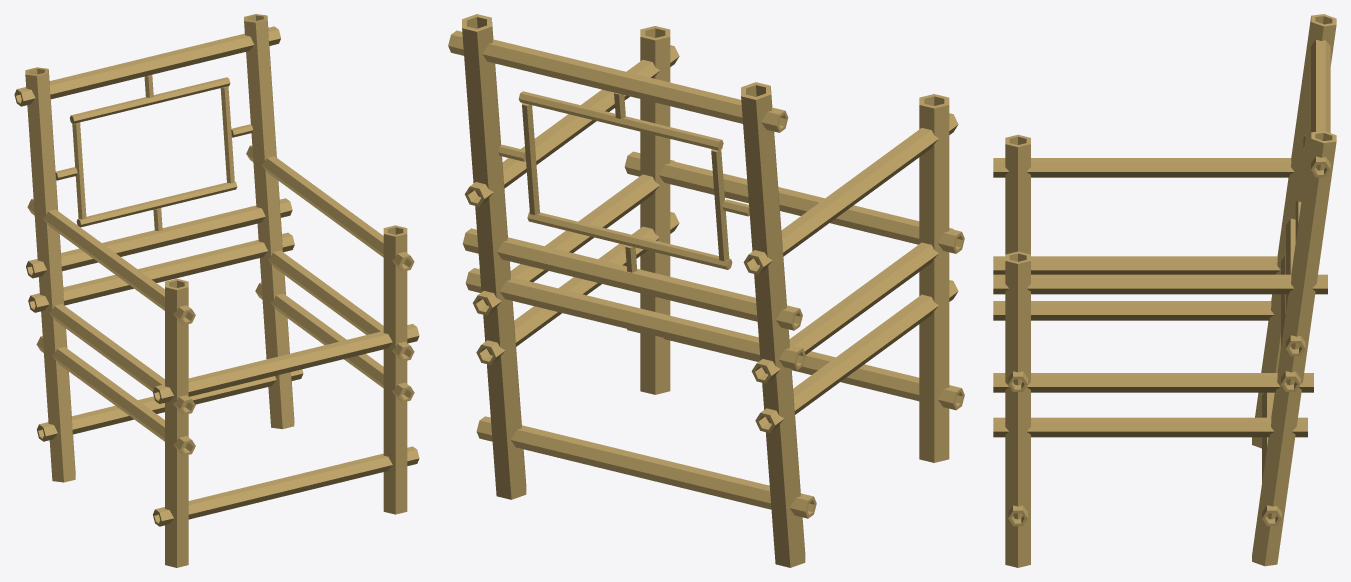
File: ghe_tre_banh_khung.far.glb
3 views of the same model, side by side, from view 1: azimuth 30°, elevation 25°; view 2: azimuth 150°, elevation 25°; view 3: azimuth 270°, elevation 25° (orthographic). The views are drawn at different scales.
Visible parts, largest first — view 1: ghe_tre_banh_khung; view 2: ghe_tre_banh_khung; view 3: ghe_tre_banh_khung.
Part boxes in pixels (bbox=[...]): ghe_tre_banh_khung: bbox=[14, 14, 419, 567]; ghe_tre_banh_khung: bbox=[448, 14, 964, 567]; ghe_tre_banh_khung: bbox=[993, 14, 1336, 567].
Bounding box in the file's own units: 0.66 × 0.9533 × 0.6958.
